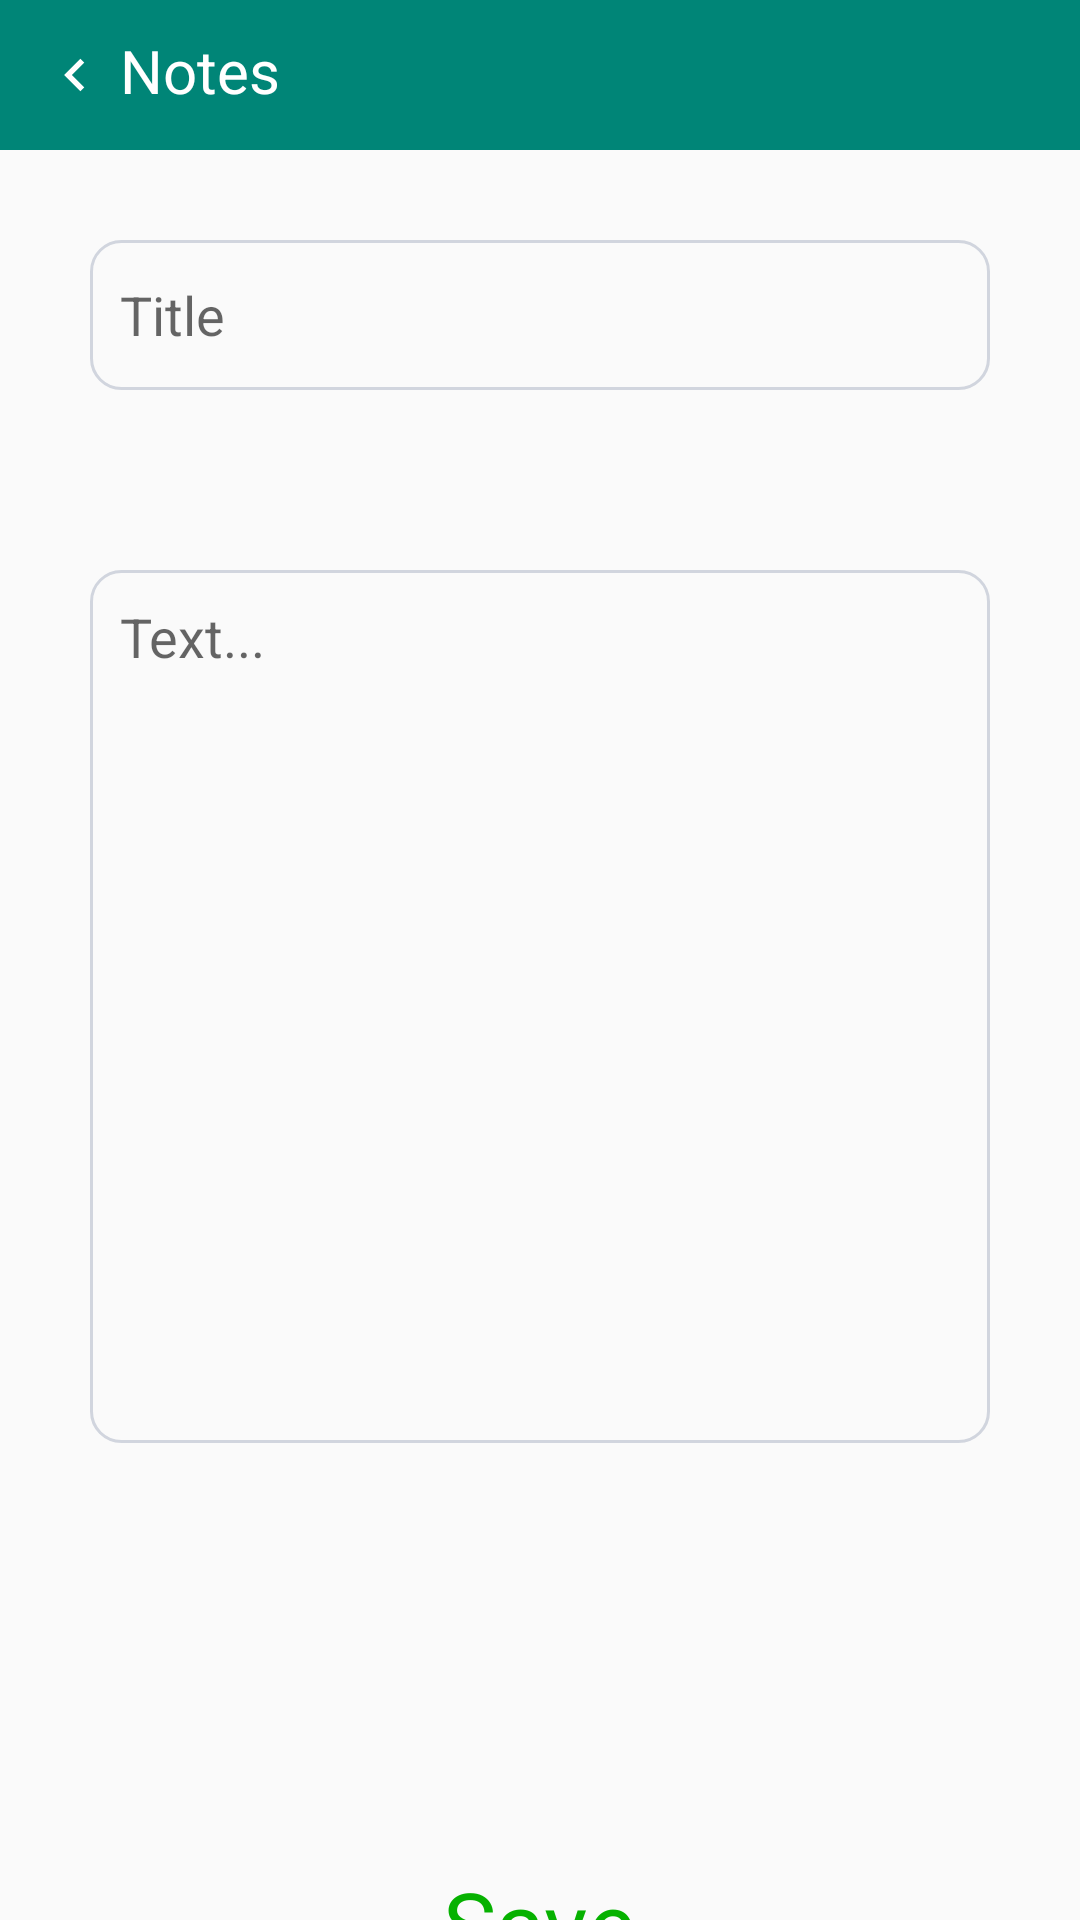

Icons on this 1080 x 1920 Android screen, each with the point to tap as [x,y]:
back: [74,75]
